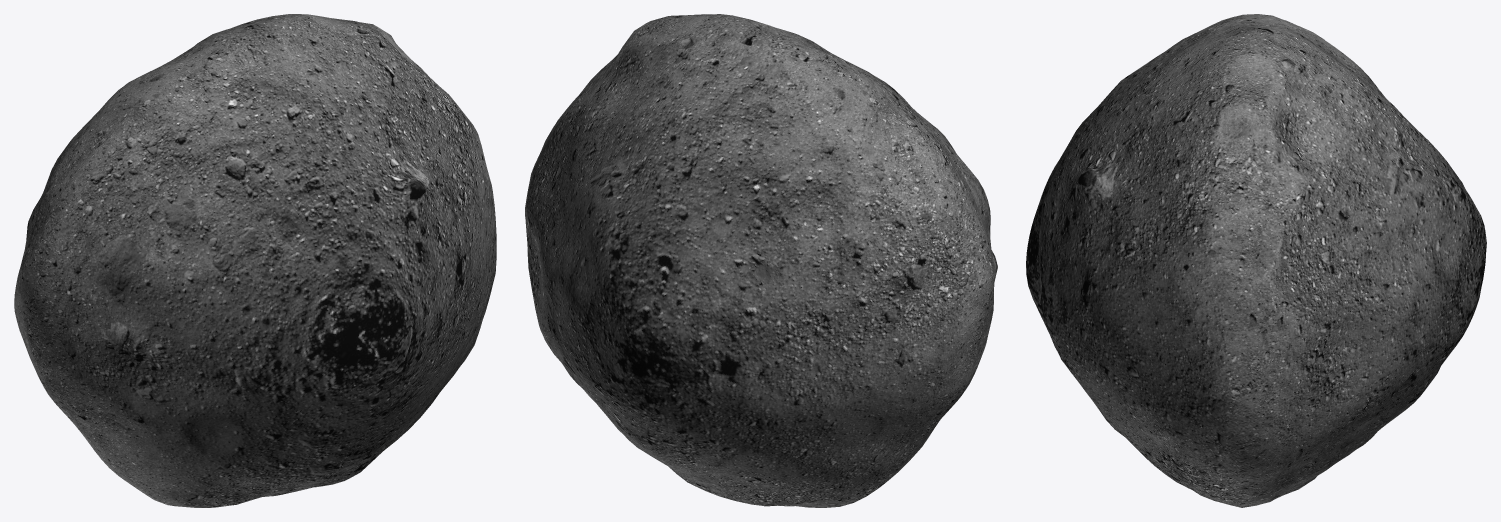
The model's file is bennu.glb.
3 views of the same model, side by side, from view 1: azimuth 30°, elevation 25°; view 2: azimuth 150°, elevation 25°; view 3: azimuth 270°, elevation 25° (orthographic).
Parts seen in each view (by area): view 1: Bennu; view 2: Bennu; view 3: Bennu.
Boxes of the visible parts, <box> form: Bennu: <box>14,14,496,507</box>; Bennu: <box>525,14,997,507</box>; Bennu: <box>1026,14,1486,507</box>.
Size of the model in its own units: 1.21 by 1.17 by 1.07.
Materials: 2 (2 with a texture image).
